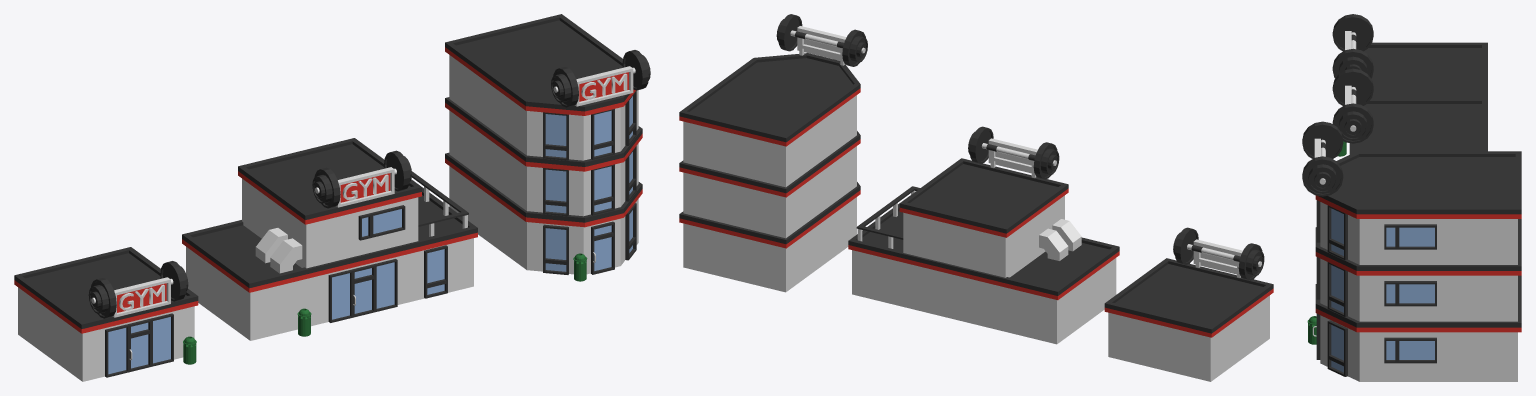
Rendered from gym.fbx.
3 views of the same model, side by side, from view 1: azimuth 30°, elevation 25°; view 2: azimuth 150°, elevation 25°; view 3: azimuth 270°, elevation 25° (orthographic). The views are drawn at different scales.
Parts seen in each view (by area): view 1: gym3, gym2, gym1; view 2: gym3, gym2, gym1; view 3: gym3, gym2, gym1.
Boxes of the visible parts, x1,y1,x2,y2 form: gym3: (445,14,650,281); gym2: (182,138,477,340); gym1: (14,247,198,381); gym3: (679,14,867,292); gym2: (848,126,1119,344); gym1: (1104,227,1273,381); gym3: (1302,121,1521,381); gym2: (1332,68,1487,154); gym1: (1332,14,1487,156).
Size of the model in its own units: 2020 by 717 by 667.
